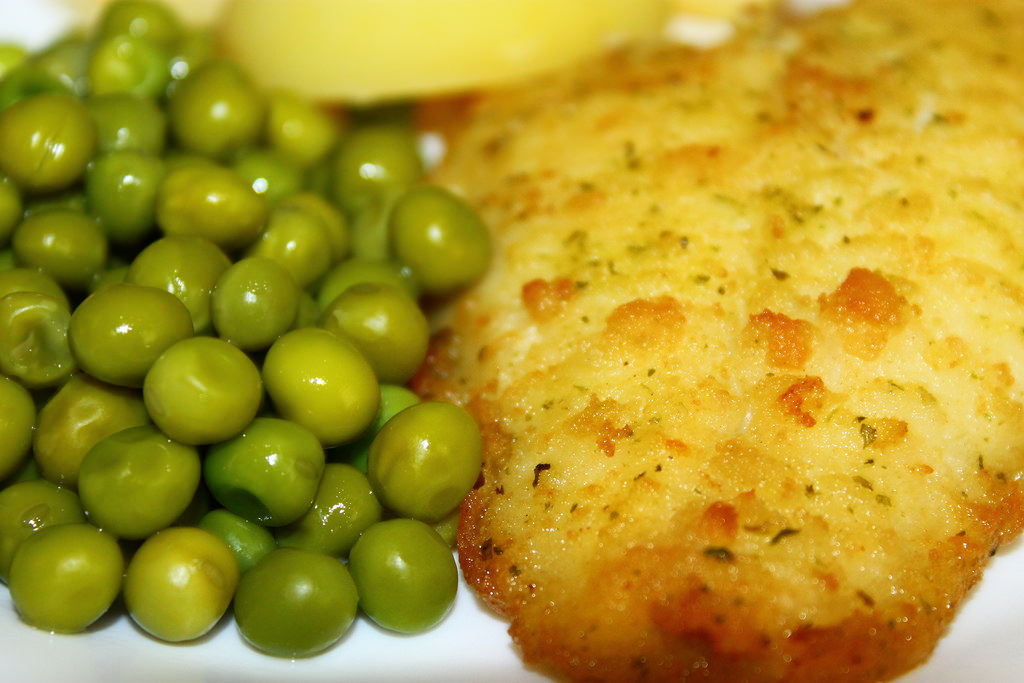boiled peas: (16, 32, 463, 654), (4, 161, 417, 646)
